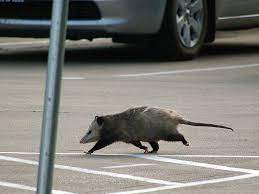opossum: (78, 105, 233, 157)
